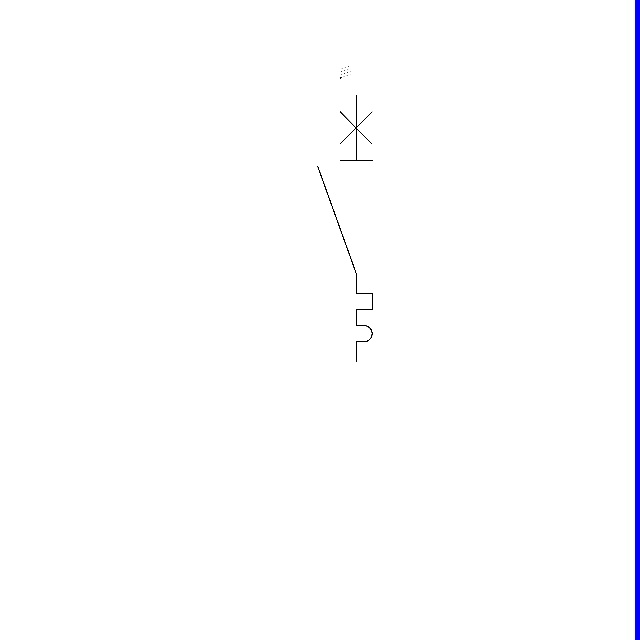interruptor_termomagnetico: (311, 88, 379, 369)
